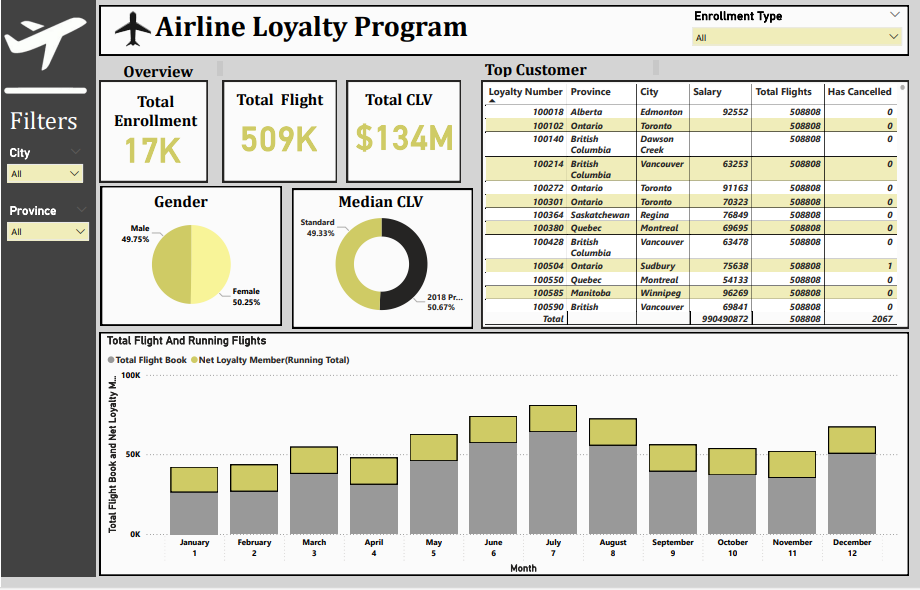

Layout of this report page (visuals, bound fields, positions):
{"tool":"powerbi","page":{"name":"Airline Insight","canvas":[1380,880],"ordinal":0},"visuals":[{"type":"shape","box":[148.1,7.7,1213.5,75],"z":0},{"type":"shape","box":[148.1,121.2,161.5,151.9],"z":1000},{"type":"shape","box":[332.7,121.2,171.2,151.9],"z":2000},{"type":"shape","box":[519.2,121.2,171.2,151.9],"z":3000},{"type":"shape","box":[721.2,121.2,640.4,371.2],"z":4000},{"type":"shape","box":[436.5,282.7,271.2,209.6],"z":5000},{"type":"shape","box":[0,0,142.3,865.4],"z":6000},{"type":"textbox","box":[226.9,7.7,651.9,103.8],"z":7000},{"type":"textbox","box":[178.8,86.5,157.7,34.6],"z":8000},{"type":"tableEx","fields":{"Values":["Customer Loyalty History.Loyalty Number","Customer Loyalty History.Province","Customer Loyalty History.City","Sum(Customer Loyalty History.Salary)","Sum(Customer Flight Activity.Total Flights)","Sum(Customer Loyalty History.Has Cancelled)"]},"box":[721.2,121.2,640.4,371.2],"z":9000},{"type":"textbox","box":[721.2,84.6,271.2,34.6],"z":10000},{"type":"cardVisual","title":"Gender ","fields":{"Data":["Measure Table.Loyalty Enrollment"]},"box":[142.3,163.5,167.3,115.4],"z":11000},{"type":"textbox","box":[153.8,132.7,155.8,69.2],"z":12000},{"type":"textbox","box":[332.7,128.8,171.2,38.5],"z":13000},{"type":"cardVisual","title":"Gender ","fields":{"Data":["Measure Table.TotalFlightBook"]},"box":[334.6,153.8,161.5,84.6],"z":14000},{"type":"textbox","box":[519.2,128.8,155.8,69.2],"z":15000},{"type":"cardVisual","title":"Gender ","fields":{"Data":["Sum(Customer Loyalty History.CLV)"]},"box":[503.8,151.9,203.8,88.5],"z":16000},{"type":"donutChart","title":"Median of CLV ","fields":{"Category":["Customer Loyalty History.Enrollment Type"],"Y":["Median(Customer Loyalty History.CLV)"]},"box":[442.3,294.2,257.7,203.8],"z":17000},{"type":"textbox","box":[492.3,282.7,155.8,59.6],"z":18000},{"type":"shape","box":[148.1,498.1,1213.5,365.4],"z":19000},{"type":"columnChart","title":"Total Flight And Running Flights","fields":{"Category":["Customer Flight Activity.Month","Customer Flight Activity.Month Name"],"Y":["Measure Table.TotalFlightBook","Airline Loyalty Data Dictionary.Net Loyalty Member(Running Total)"]},"box":[153.8,500,1200,365.4],"z":20000},{"type":"shape","box":[150,278.8,271.2,209.6],"z":21000},{"type":"textbox","box":[192.3,282.7,155.8,59.6],"z":22000},{"type":"pieChart","title":"Gender ","fields":{"Y":["CountNonNull(Customer Loyalty History.Gender)"],"Category":["Customer Loyalty History.Gender"]},"box":[175,307.7,221.2,176.9],"z":23000},{"type":"image","box":[150,0,96.2,86.5],"z":24000},{"type":"textbox","box":[7.7,153.8,140.4,63.5],"z":25000},{"type":"slicer","fields":{"Values":["Customer Loyalty History.City"]},"box":[0,213.5,132.7,71.2],"z":26000},{"type":"slicer","fields":{"Values":["Customer Loyalty History.Province"]},"box":[0,300,142.3,71.2],"z":27000},{"type":"image","box":[0,13.5,132.7,138.5],"z":28000},{"type":"slicer","fields":{"Values":["Customer Loyalty History.Enrollment Type"]},"box":[1026.9,7.7,334.6,71.2],"z":29000}]}

Visuals, with their boxes in screenshot pixels (x1, y1, x2, y2), scaled from the page's 1380x880 canvas onto the 920x590 screenshot:
shape: [left=99, top=5, right=908, bottom=55]
shape: [left=99, top=81, right=206, bottom=183]
shape: [left=222, top=81, right=336, bottom=183]
shape: [left=346, top=81, right=460, bottom=183]
shape: [left=481, top=81, right=908, bottom=330]
shape: [left=291, top=190, right=472, bottom=330]
shape: [left=0, top=0, right=95, bottom=580]
textbox: [left=151, top=5, right=586, bottom=75]
textbox: [left=119, top=58, right=224, bottom=81]
tableEx - Customer Loyalty History.Loyalty Number x Customer Loyalty History.Province: [left=481, top=81, right=908, bottom=330]
textbox: [left=481, top=57, right=662, bottom=80]
"Gender " cardVisual: [left=95, top=110, right=206, bottom=187]
textbox: [left=103, top=89, right=206, bottom=135]
textbox: [left=222, top=86, right=336, bottom=112]
"Gender " cardVisual: [left=223, top=103, right=331, bottom=160]
textbox: [left=346, top=86, right=450, bottom=133]
"Gender " cardVisual: [left=336, top=102, right=472, bottom=161]
"Median of CLV " donutChart: [left=295, top=197, right=467, bottom=334]
textbox: [left=328, top=190, right=432, bottom=229]
shape: [left=99, top=334, right=908, bottom=579]
"Total Flight And Running Flights" columnChart: [left=103, top=335, right=903, bottom=580]
shape: [left=100, top=187, right=281, bottom=327]
textbox: [left=128, top=190, right=232, bottom=229]
"Gender " pieChart: [left=117, top=206, right=264, bottom=325]
image: [left=100, top=0, right=164, bottom=58]
textbox: [left=5, top=103, right=99, bottom=146]
slicer - Customer Loyalty History.City: [left=0, top=143, right=88, bottom=191]
slicer - Customer Loyalty History.Province: [left=0, top=201, right=95, bottom=249]
image: [left=0, top=9, right=88, bottom=102]
slicer - Customer Loyalty History.Enrollment Type: [left=685, top=5, right=908, bottom=53]
